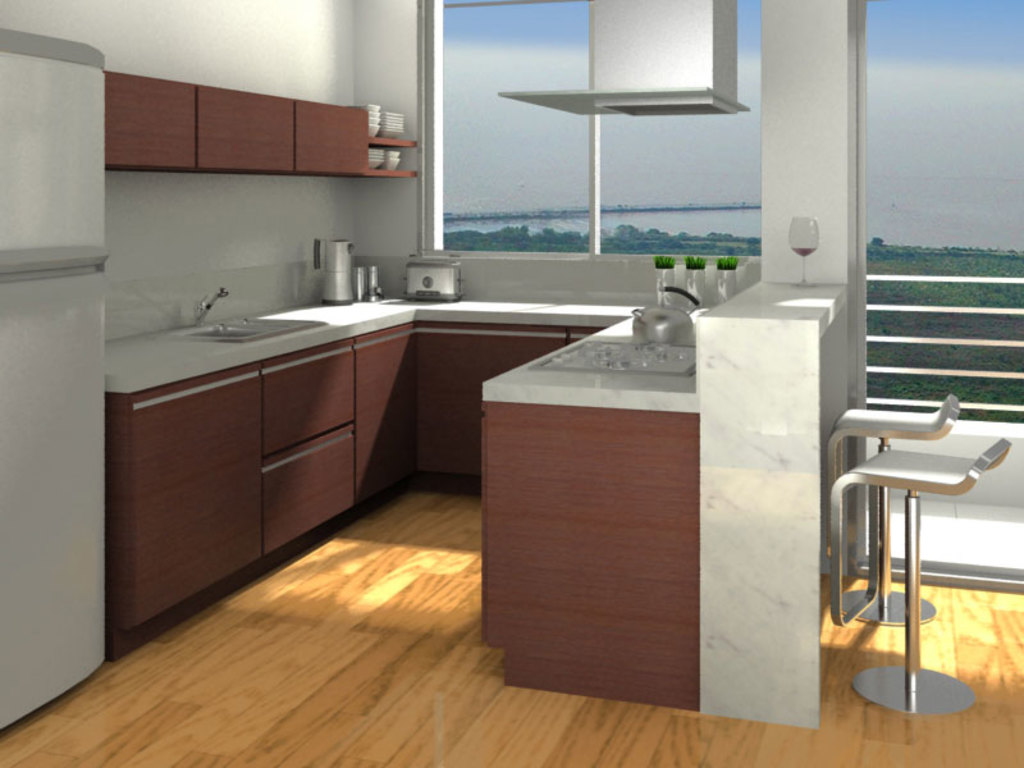Cabinetry: (124, 362, 265, 623), (419, 321, 559, 471), (355, 321, 431, 503), (268, 411, 361, 545), (260, 347, 360, 462), (108, 82, 204, 169), (198, 91, 301, 165), (298, 104, 371, 172)
